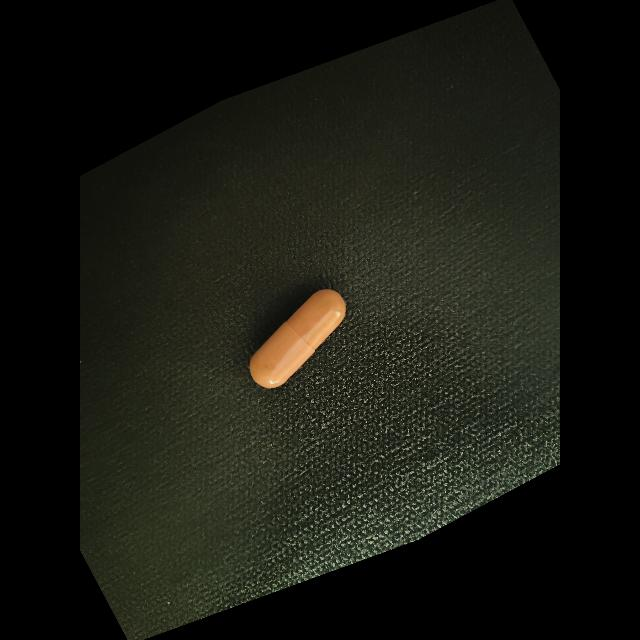Intact Capsule: (250, 289, 346, 388)
